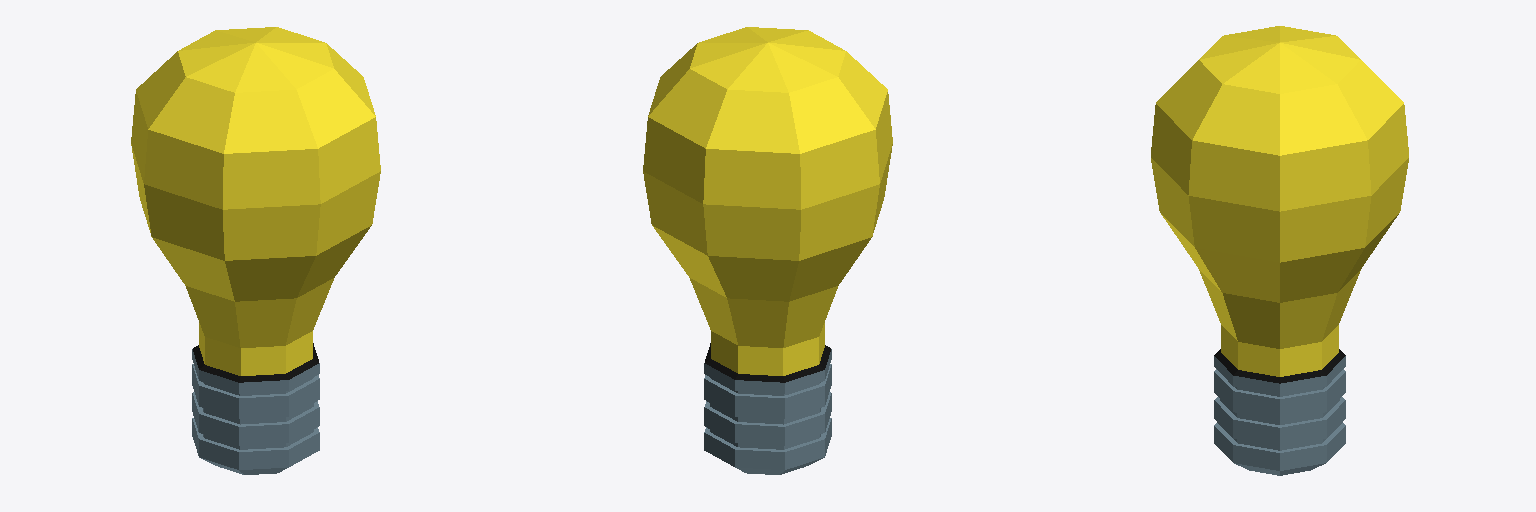
File: Light_bulb_01.obj
3 views of the same model, side by side, from view 1: azimuth 30°, elevation 25°; view 2: azimuth 150°, elevation 25°; view 3: azimuth 270°, elevation 25° (orthographic).
Visible parts, largest first — view 1: Light_bulb_01_Circle.008; view 2: Light_bulb_01_Circle.008; view 3: Light_bulb_01_Circle.008.
Boxes of the visible parts, x1=… form: Light_bulb_01_Circle.008: x1=131, y1=27, x2=380, y2=474; Light_bulb_01_Circle.008: x1=643, y1=27, x2=892, y2=474; Light_bulb_01_Circle.008: x1=1151, y1=26, x2=1408, y2=475.
Bounding box in the file's own units: 5.49 × 9.99 × 5.49.